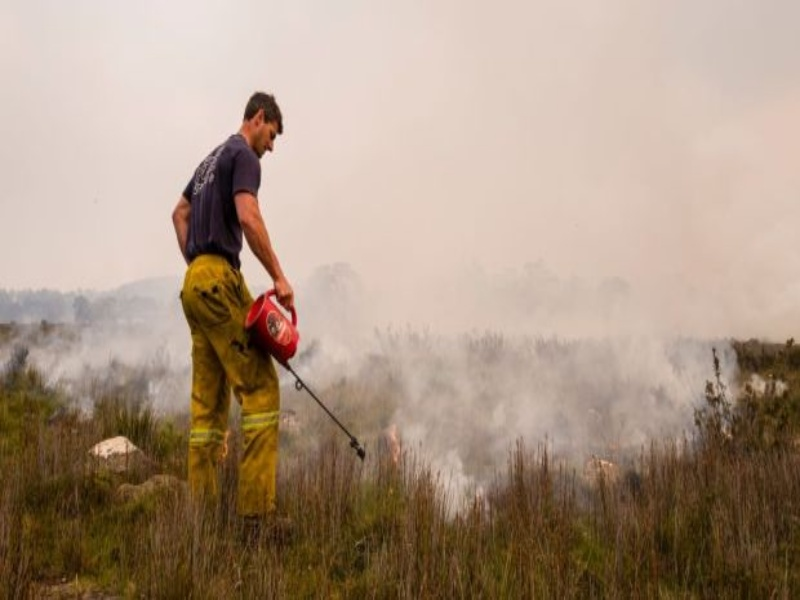smoke: (315, 280, 663, 452)
